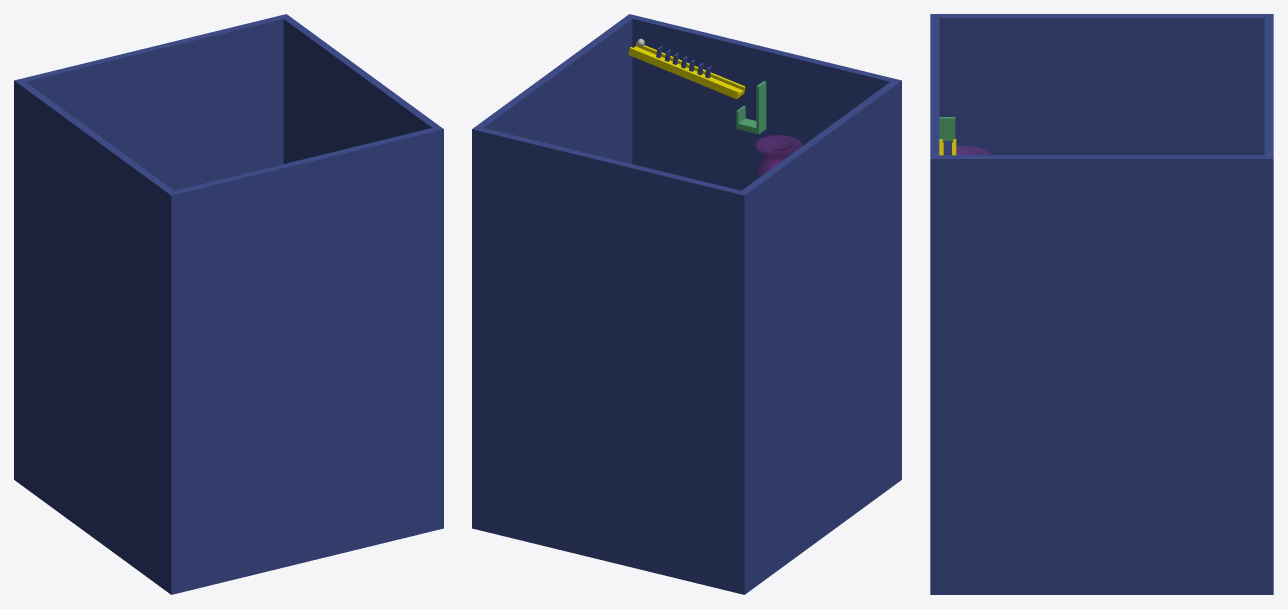
Rendered from testing2.fbx.
The picture shows the model from 3 angles, left to right: view 1: azimuth 30°, elevation 25°; view 2: azimuth 150°, elevation 25°; view 3: azimuth 270°, elevation 25°; orthographic projection. The views are drawn at different scales.
Parts seen in each view (by area): view 1: pCube17; view 2: pCube17, pCube5, pCylinder11, pCube18; view 3: pCube17.
Boxes of the visible parts, left/top/right/bottom form: pCube17: left=14, top=14, right=443, bottom=594; pCube17: left=472, top=14, right=901, bottom=594; pCube5: left=628, top=43, right=745, bottom=99; pCylinder11: left=755, top=135, right=802, bottom=176; pCube18: left=736, top=81, right=766, bottom=134; pCube17: left=930, top=14, right=1273, bottom=594.
Bounding box in the file's own units: 50 × 70 × 50.
